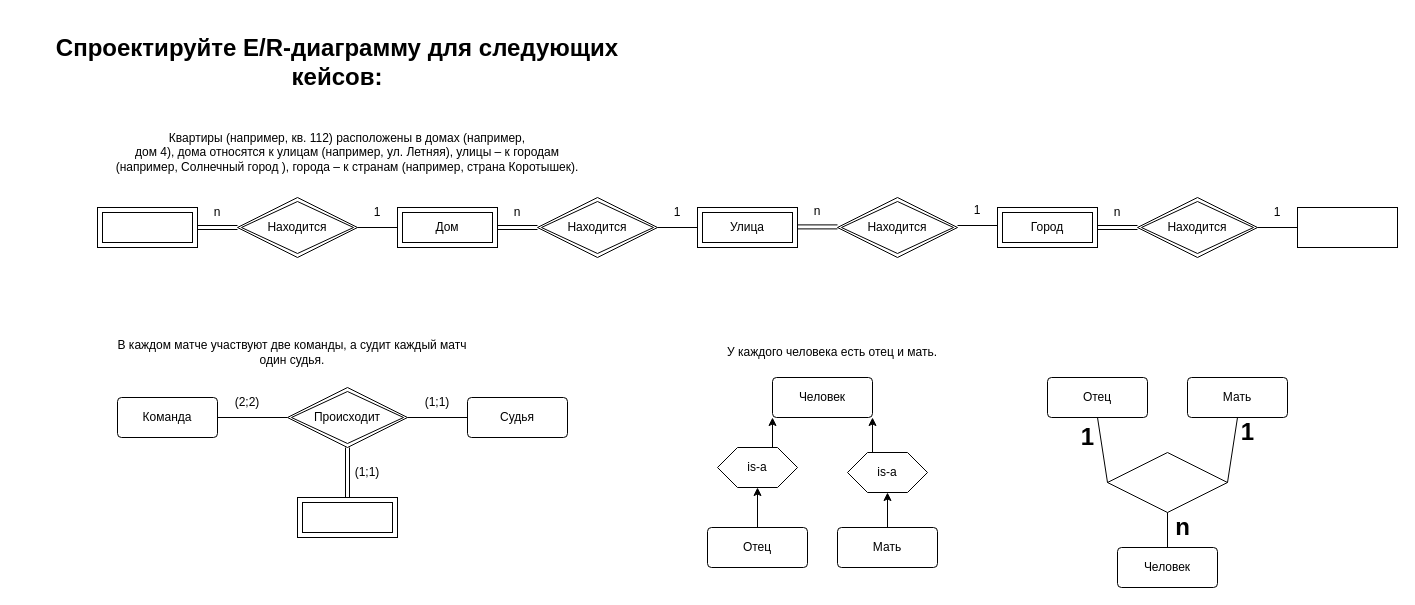
Some shapes in this 1415 by 605 pixel diagram are drawn without their labels. The shapes that lost their labels are listed below. From the top down, each one's centre as x and y in pixels, then its label:
At (147,227): "Квартира".
At (1347,227): "Страна".
At (1167,482): "Родительство".
At (347,517): "Матч".
